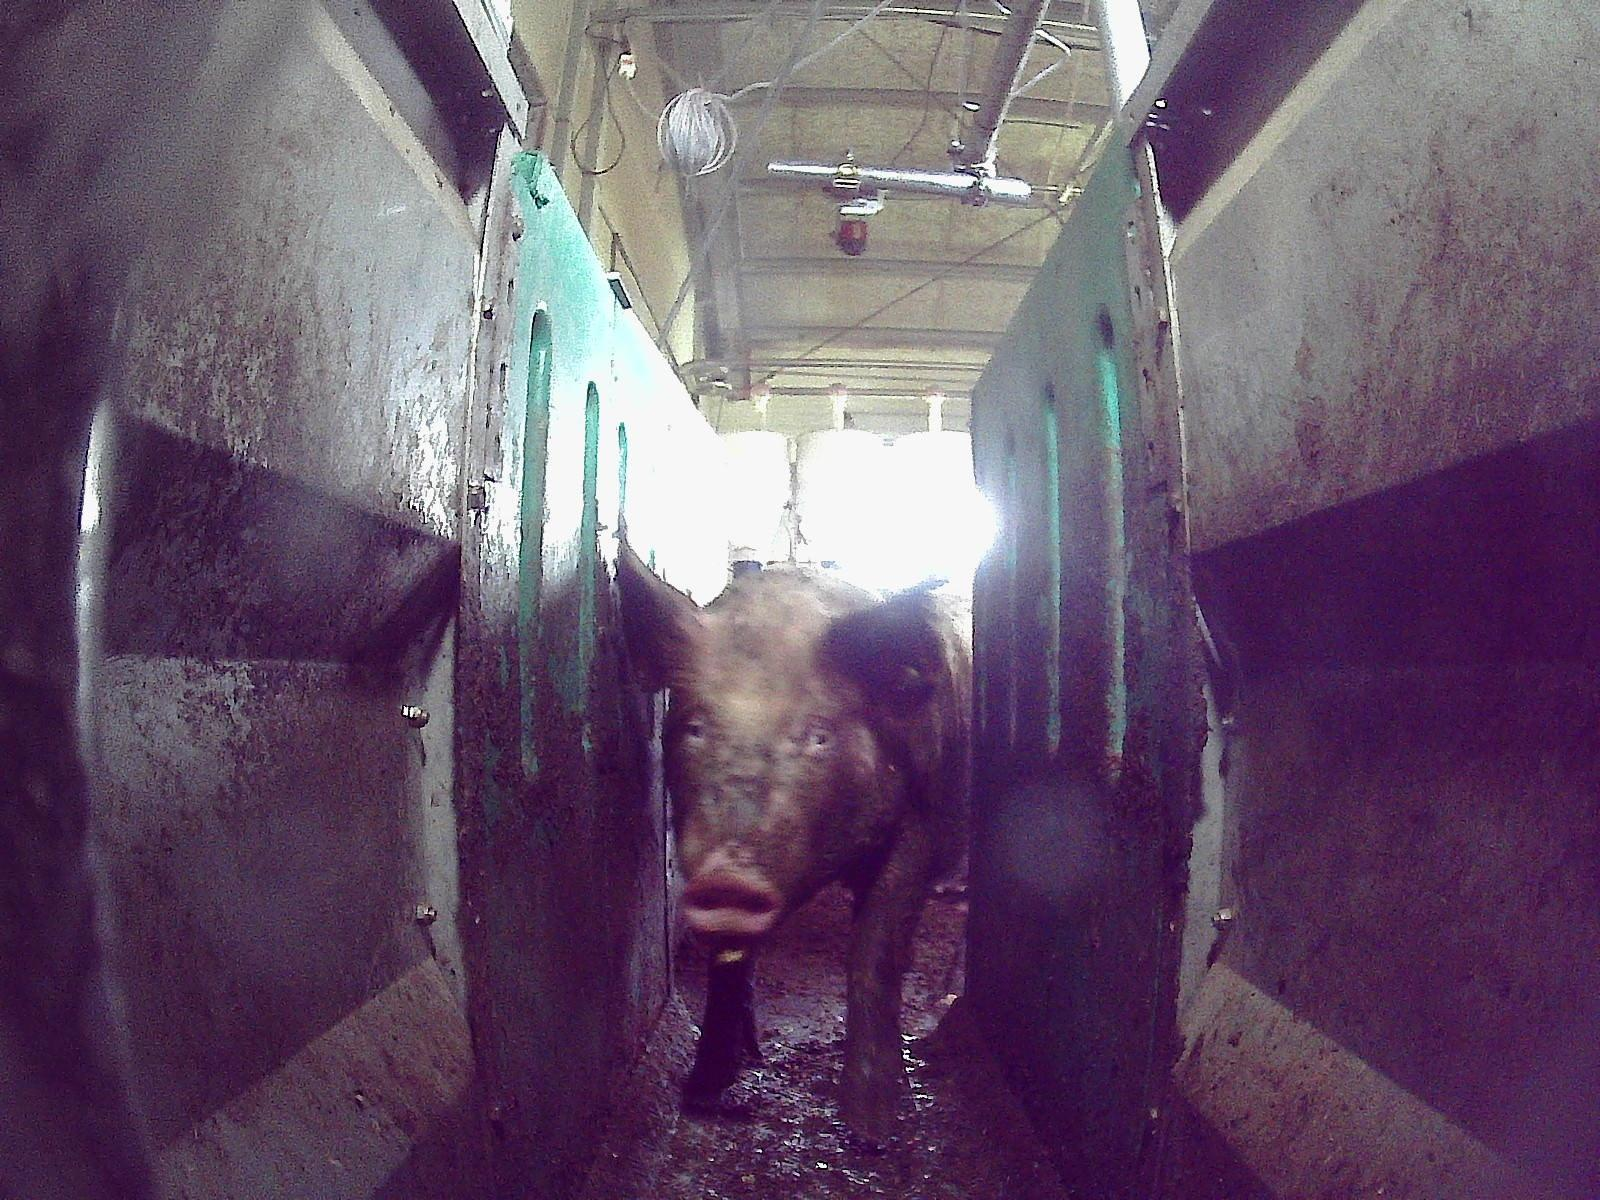Face: (653, 630, 864, 935)
